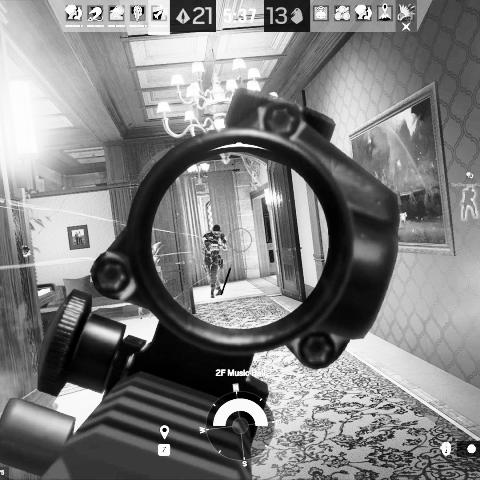Character: (201, 224, 230, 300)
Friend_label: (450, 170, 480, 189)
Head: (210, 224, 222, 237)
